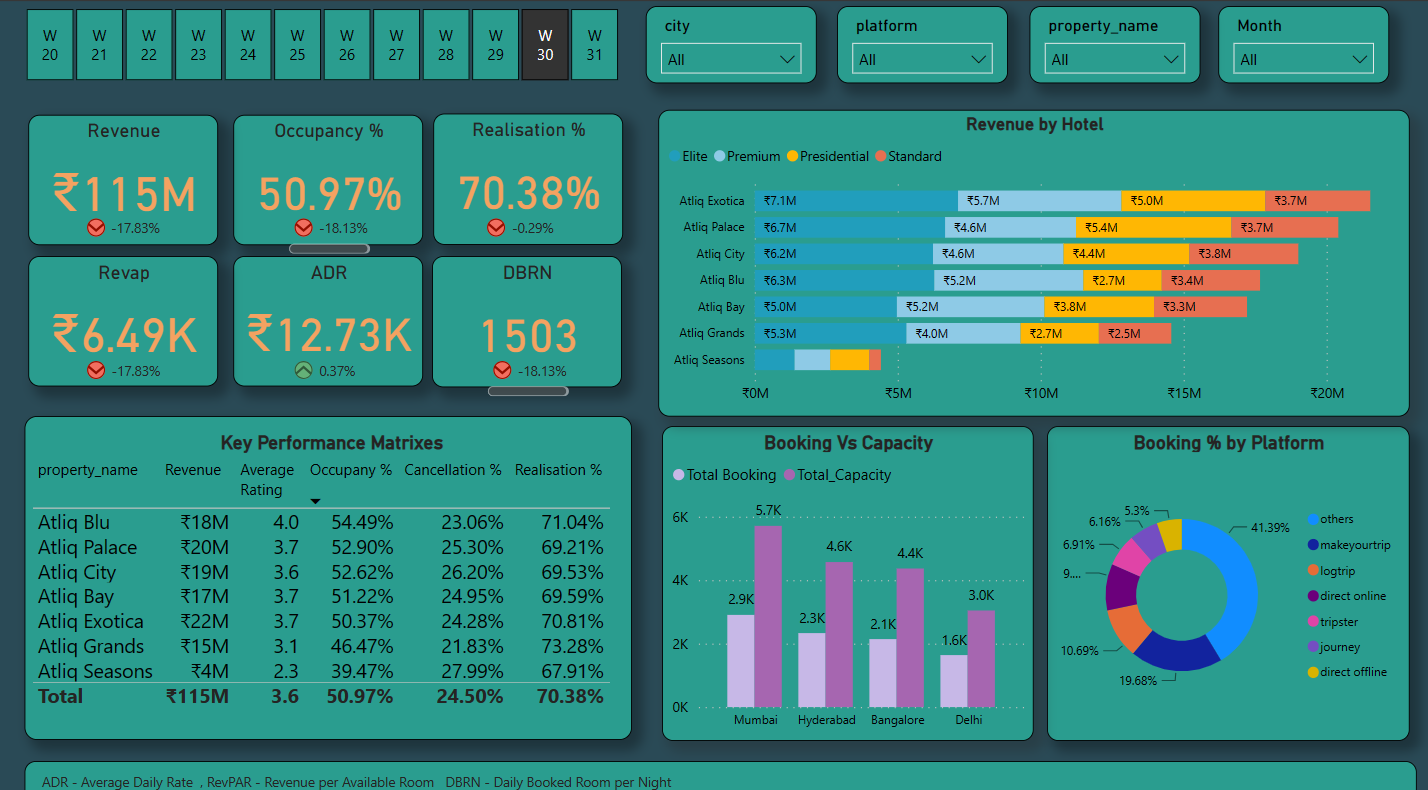

The page's visual inventory and layout, read from the dashboard file:
{"tool":"powerbi","page":{"name":"Page 2","canvas":[1280,720],"ordinal":0},"visuals":[{"type":"tableEx","title":"Key Performance Matrixes","fields":{"Values":["dim_hotels.property_name","Key Measures.Revenue","Key Measures.Average Rating","Key Measures.Occupany %","Key Measures.Cancellation %","Key Measures.Realisation %"]},"box":[24.1,369,540.3,288.2],"z":0},{"type":"card","title":"Occupancy %","fields":{"Values":["Key Measures.Occupany %"]},"box":[209.9,100.7,168.8,115.8],"z":1000},{"type":"card","title":"Realisation %","fields":{"Values":["Key Measures.Realisation %"]},"box":[387.3,100.4,168.6,116.5],"z":2000},{"type":"donutChart","title":"Booking % by Platform","fields":{"Category":["fact_bookings.booking_platform"],"Y":["Key Measures.Booking % Platform"]},"box":[933.5,377.5,322,279.8],"z":3000},{"type":"clusteredColumnChart","title":"Booking Vs Capacity","fields":{"Category":["dim_hotels.city"],"Y":["Key Measures.Total Booking","Key Measures.Total_Capacity"]},"box":[591,377.5,330.5,279.8],"z":4000},{"type":"slicer","fields":{"Values":["dim_hotels.city"]},"box":[576.3,4.9,152.4,68.8],"z":5000},{"type":"slicer","fields":{"Values":["fact_bookings.booking_platform"]},"box":[747.2,4.9,152.4,68.8],"z":6000},{"type":"slicer","fields":{"Values":["dim_date.date.Variation.Date Hierarchy.Month"]},"box":[1085.1,4.9,152.4,68.8],"z":7000},{"type":"slicer","fields":{"Values":["dim_hotels.property_name"]},"box":[918,4.9,152.4,68.8],"z":8000},{"type":"barChart","title":"Revenue by city","fields":{"Category":["dim_hotels.property_name"],"Y":["Key Measures.Revenue"],"Series":["dim_rooms.room_class"]},"box":[587.3,96.5,668.1,272.6],"z":9000},{"type":"card","title":"Revenue","fields":{"Values":["Key Measures.Revenue"]},"box":[27.8,100.7,168.8,115.8],"z":11000},{"type":"tableEx","fields":{"Values":["Key Measures.Revenue WoW change %"]},"box":[68.6,162.5,93.4,67.6],"z":12000},{"type":"tableEx","fields":{"Values":["Key Measures.Occupancy WoW change %"]},"box":[252.9,162.5,83.6,67.6],"z":13000},{"type":"tableEx","fields":{"Values":["Key Measures.Realisation WoW change %"]},"box":[424.9,162.5,93.4,67.6],"z":14000},{"type":"card","title":"ADR","fields":{"Values":["Key Measures.ADR"]},"box":[209.8,226.7,168.8,115.8],"z":15000},{"type":"card","title":"DBRN","fields":{"Values":["Key Measures.DBRN"]},"box":[387.2,226.4,168.6,116.5],"z":16000},{"type":"card","title":"Revap","fields":{"Values":["Key Measures.Revap"]},"box":[27.7,226.7,168.8,115.8],"z":17000},{"type":"tableEx","fields":{"Values":["Key Measures.Revpar WoW change %"]},"box":[68.5,288.5,93.4,67.6],"z":18000},{"type":"tableEx","fields":{"Values":["Key Measures.ADR WoW change %"]},"box":[252.8,288.5,83.6,67.6],"z":19000},{"type":"tableEx","fields":{"Values":["Key Measures.DBRN WoW change %"]},"box":[429.9,289,83.6,67.6],"z":20000},{"type":"slicer","fields":{"Values":["dim_date.week no"]},"box":[0,0,576.3,77.4],"z":21000},{"type":"textbox","box":[24.1,675.4,1237.4,35],"z":22000}]}

Visuals, with their boxes in screenshot pixels (x1, y1, x2, y2), scaled from the page's 1280x720 canvas onto the 1428x790 screenshot:
"Key Performance Matrixes" tableEx: (27, 405, 630, 721)
"Occupancy %" card: (234, 110, 422, 238)
"Realisation %" card: (432, 110, 620, 238)
"Booking % by Platform" donutChart: (1041, 414, 1401, 721)
"Booking Vs Capacity" clusteredColumnChart: (659, 414, 1028, 721)
slicer - dim_hotels.city: (643, 5, 813, 81)
slicer - fact_bookings.booking_platform: (834, 5, 1004, 81)
slicer - dim_date.date.Variation.Date Hierarchy.Month: (1211, 5, 1381, 81)
slicer - dim_hotels.property_name: (1024, 5, 1194, 81)
"Revenue by city" barChart: (655, 106, 1401, 405)
"Revenue" card: (31, 110, 219, 238)
tableEx - Key Measures.Revenue WoW change %: (77, 178, 181, 252)
tableEx - Key Measures.Occupancy WoW change %: (282, 178, 375, 252)
tableEx - Key Measures.Realisation WoW change %: (474, 178, 578, 252)
"ADR" card: (234, 249, 422, 376)
"DBRN" card: (432, 248, 620, 376)
"Revap" card: (31, 249, 219, 376)
tableEx - Key Measures.Revpar WoW change %: (76, 317, 181, 391)
tableEx - Key Measures.ADR WoW change %: (282, 317, 375, 391)
tableEx - Key Measures.DBRN WoW change %: (480, 317, 573, 391)
slicer - dim_date.week no: (0, 0, 643, 85)
textbox: (27, 741, 1407, 779)
